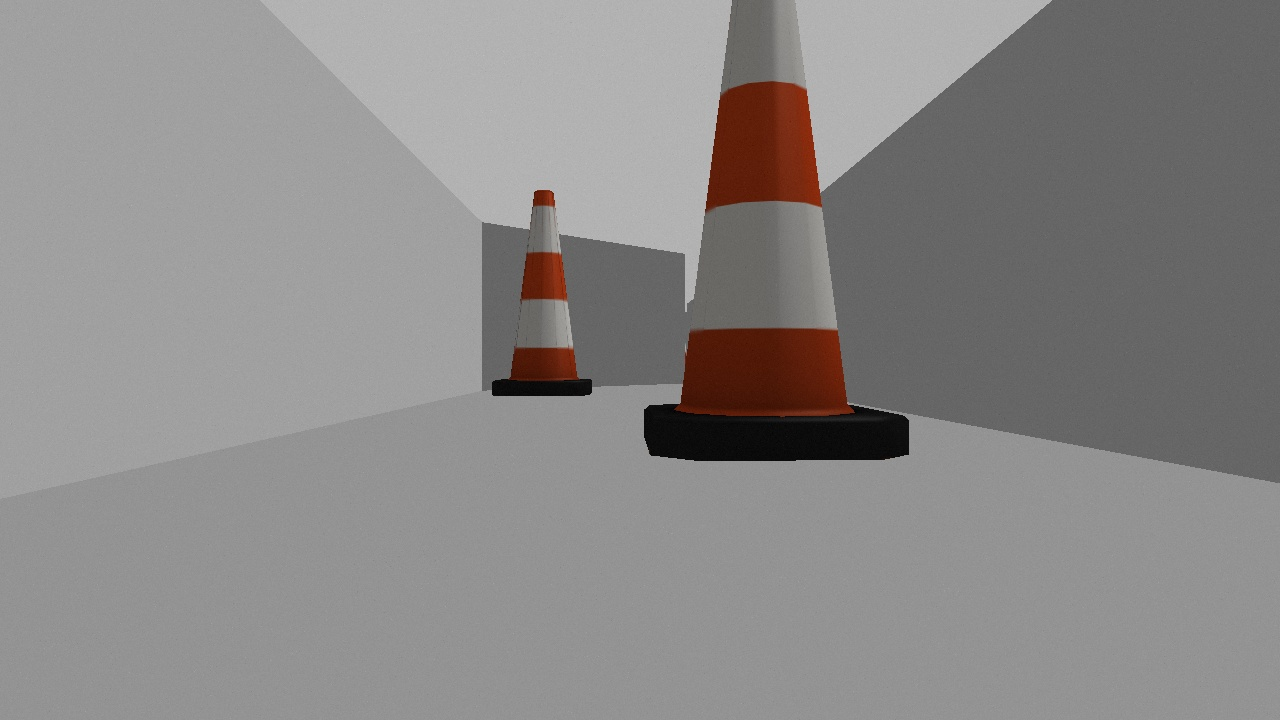barricade: (626, 1, 920, 467), (484, 182, 598, 402)
